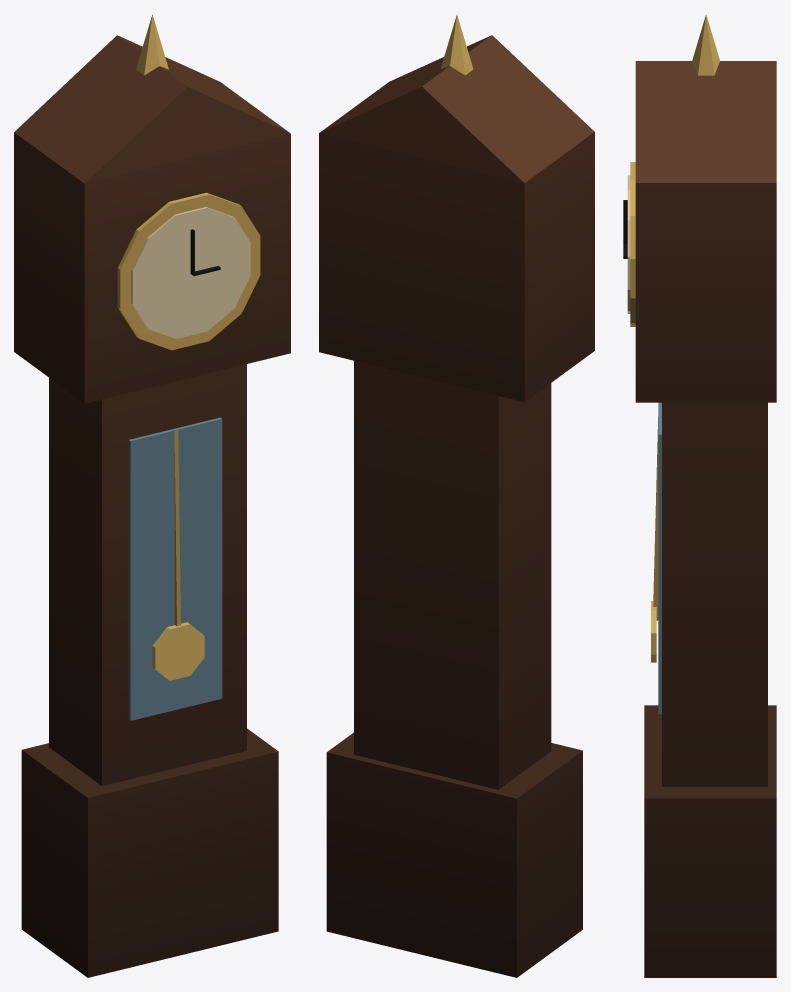
The model's file is SM_GrandfatherClock.fbx.
The picture shows the model from 3 angles, left to right: view 1: azimuth 30°, elevation 25°; view 2: azimuth 150°, elevation 25°; view 3: azimuth 270°, elevation 25°; orthographic projection.
Parts seen in each view (by area): view 1: SM_GrandfatherClock; view 2: SM_GrandfatherClock; view 3: SM_GrandfatherClock.
Boxes of the visible parts, box(x1,y1,x2,y2) form: SM_GrandfatherClock: box(14, 14, 290, 977); SM_GrandfatherClock: box(319, 15, 594, 977); SM_GrandfatherClock: box(623, 14, 776, 977).
Bounding box in the file's own units: 0.54 × 2.3 × 0.348.
